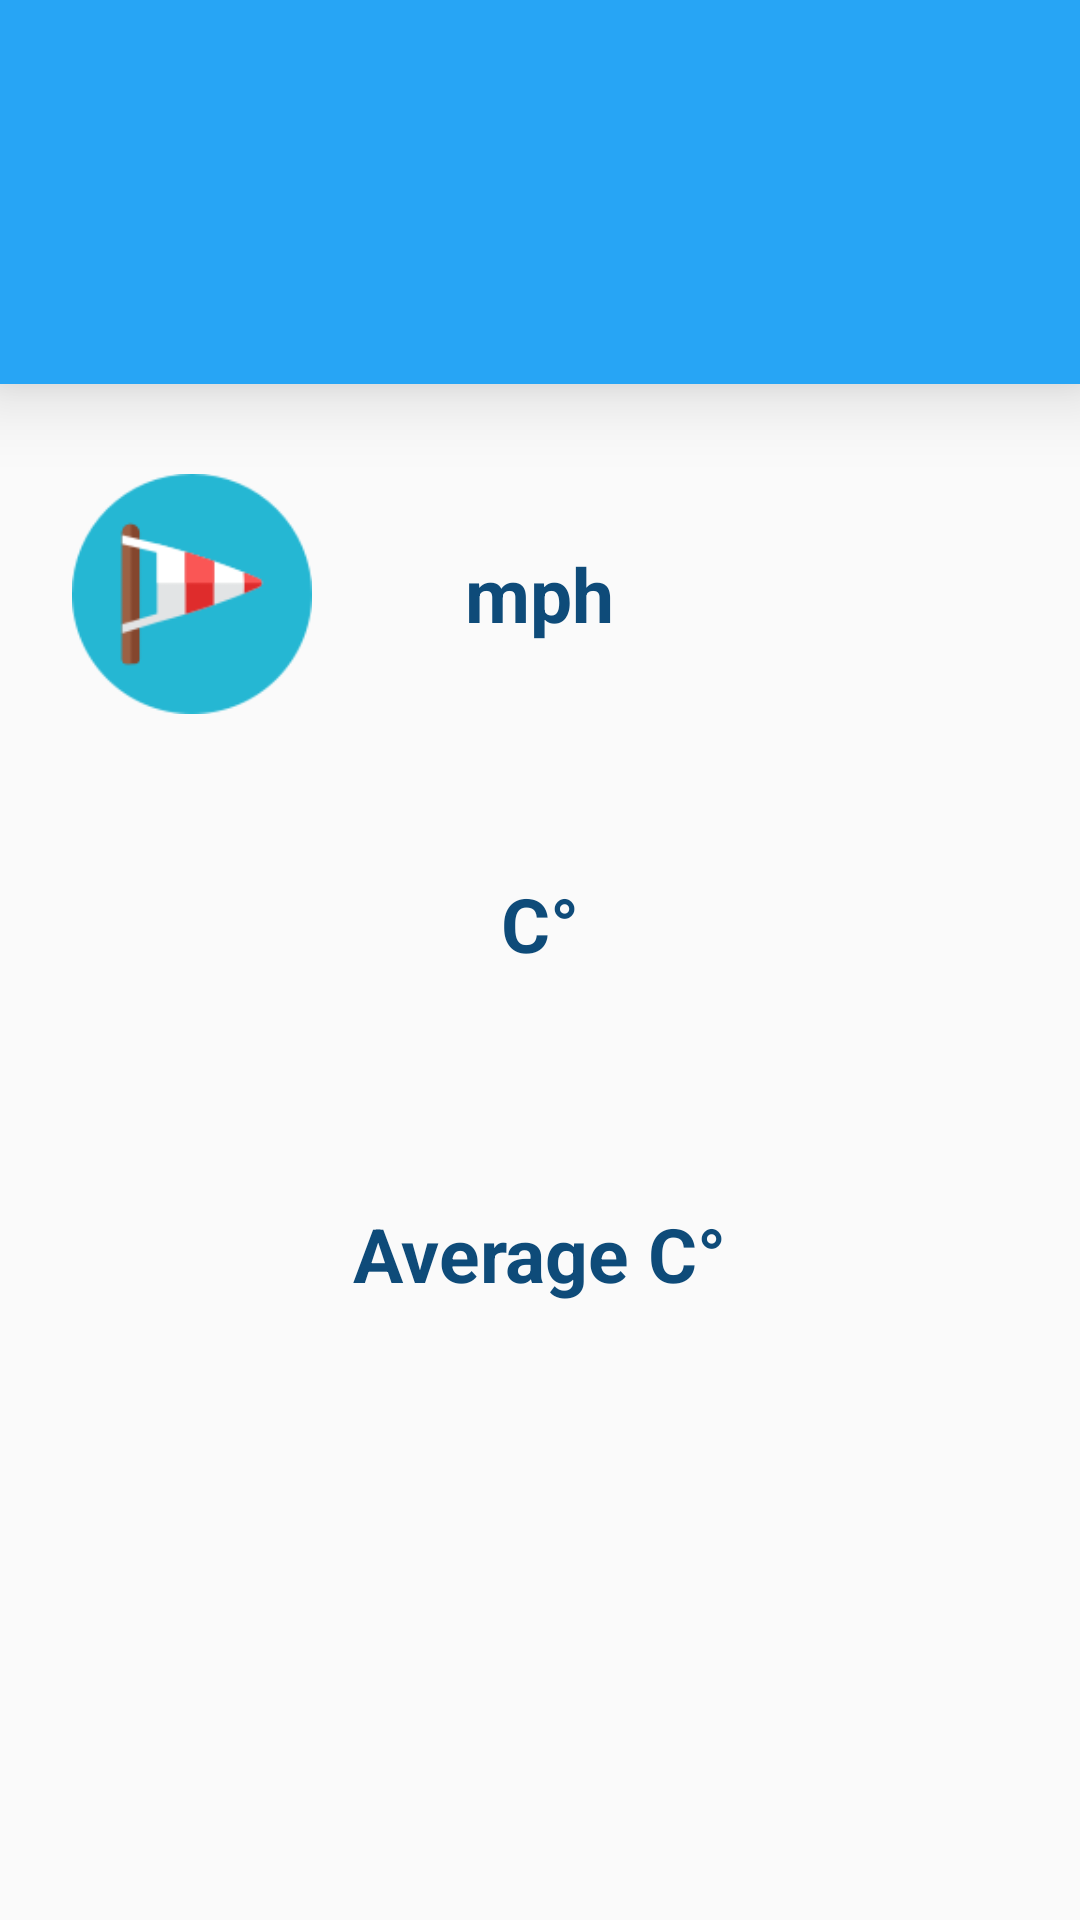

Screen size 1080w x 1920h. Icon name, then its center in pixels as [x,y]:
flag: [192,594]
